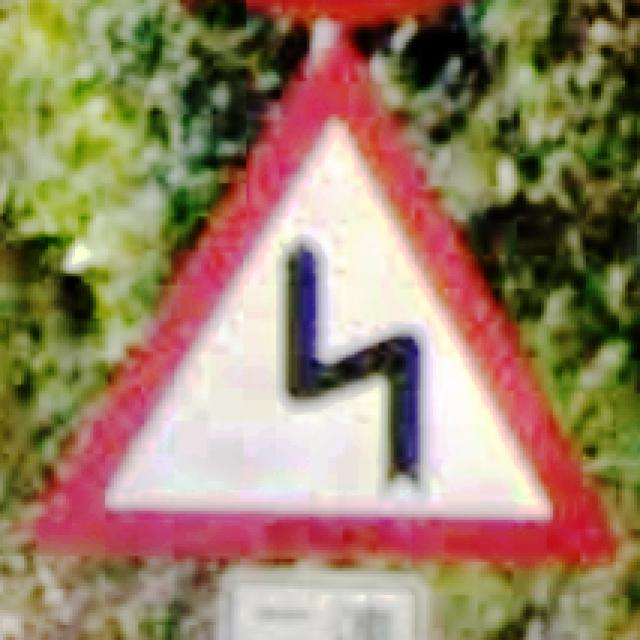doublebendleft: (36, 45, 619, 568)
